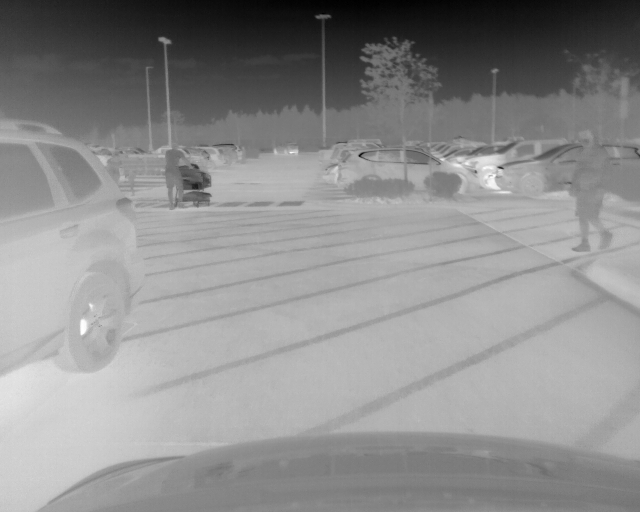car: (2, 119, 146, 376), (497, 139, 640, 197), (335, 145, 477, 196), (462, 137, 577, 189), (179, 146, 210, 165), (204, 145, 226, 166), (273, 141, 300, 155), (225, 142, 238, 165)
people: (570, 132, 616, 252), (164, 144, 195, 209), (124, 152, 138, 193), (106, 153, 121, 183)
